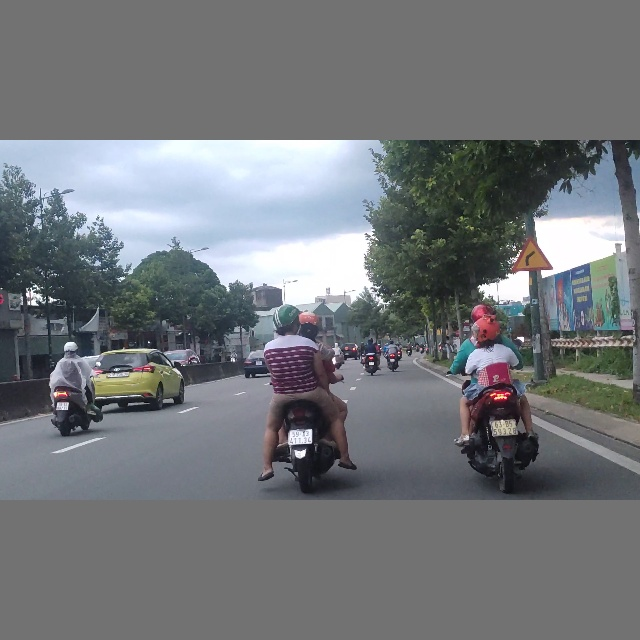W.201b: (511, 235, 554, 273)
